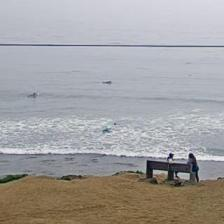surfer: (29, 92, 37, 98), (102, 80, 112, 84), (103, 128, 110, 132), (113, 122, 117, 125)
